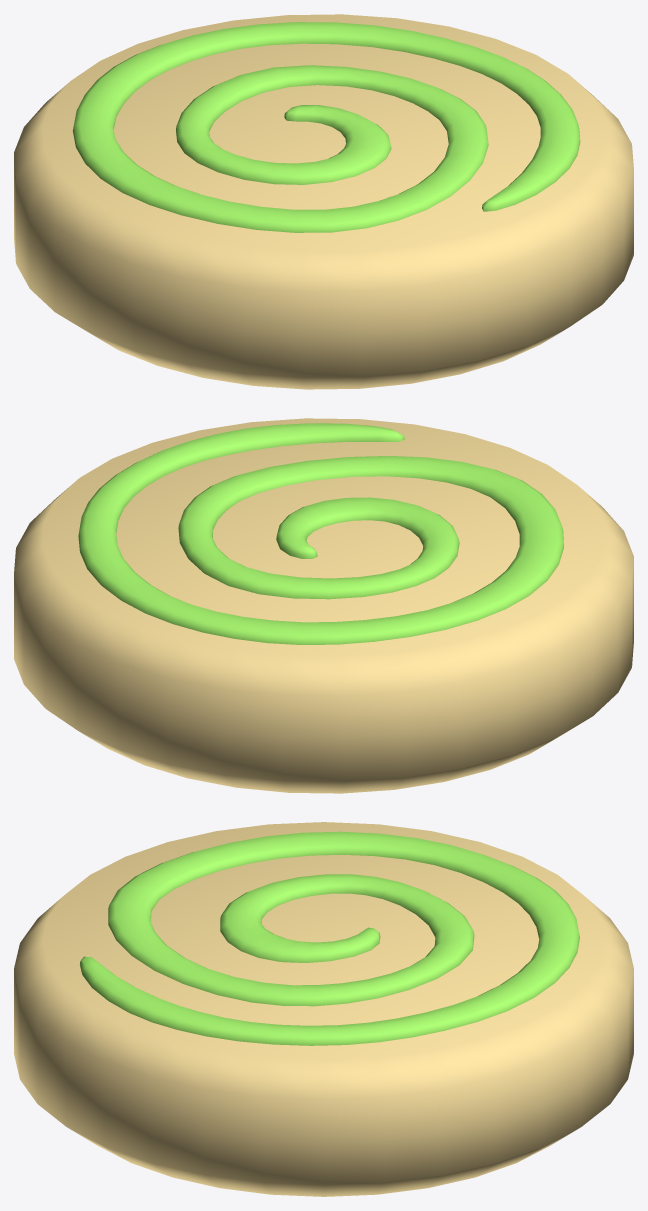
The model's file is sweet_green.fbx.
3 views of the same model, one above another, from view 1: azimuth 30°, elevation 25°; view 2: azimuth 150°, elevation 25°; view 3: azimuth 270°, elevation 25° (orthographic).
Visible parts, largest first — view 1: Cylinder, Plane; view 2: Cylinder, Plane; view 3: Cylinder, Plane.
Part boxes in pixels (<box>): Cylinder: <box>14,14,633,389</box>; Plane: <box>72,22,580,232</box>; Cylinder: <box>14,418,633,793</box>; Plane: <box>78,423,563,644</box>; Cylinder: <box>14,822,633,1196</box>; Plane: <box>80,831,579,1045</box>.
Size of the model in its own units: 0.3016 by 0.0859 by 0.3016.
